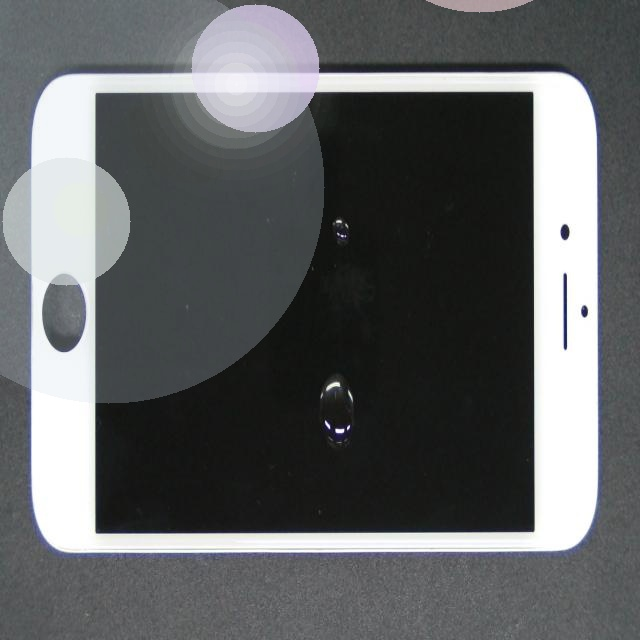oil: (179, 233, 541, 628), (149, 150, 502, 360)
